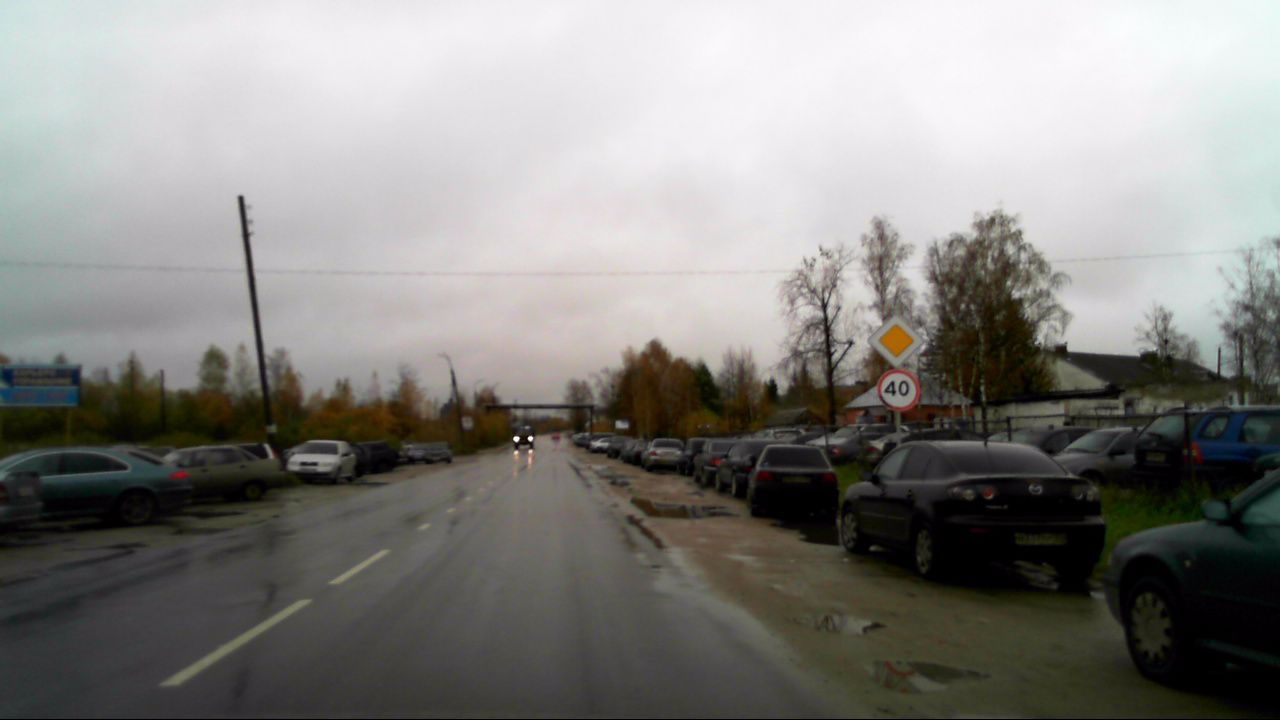speed_warning_40: (877, 370, 920, 412)
